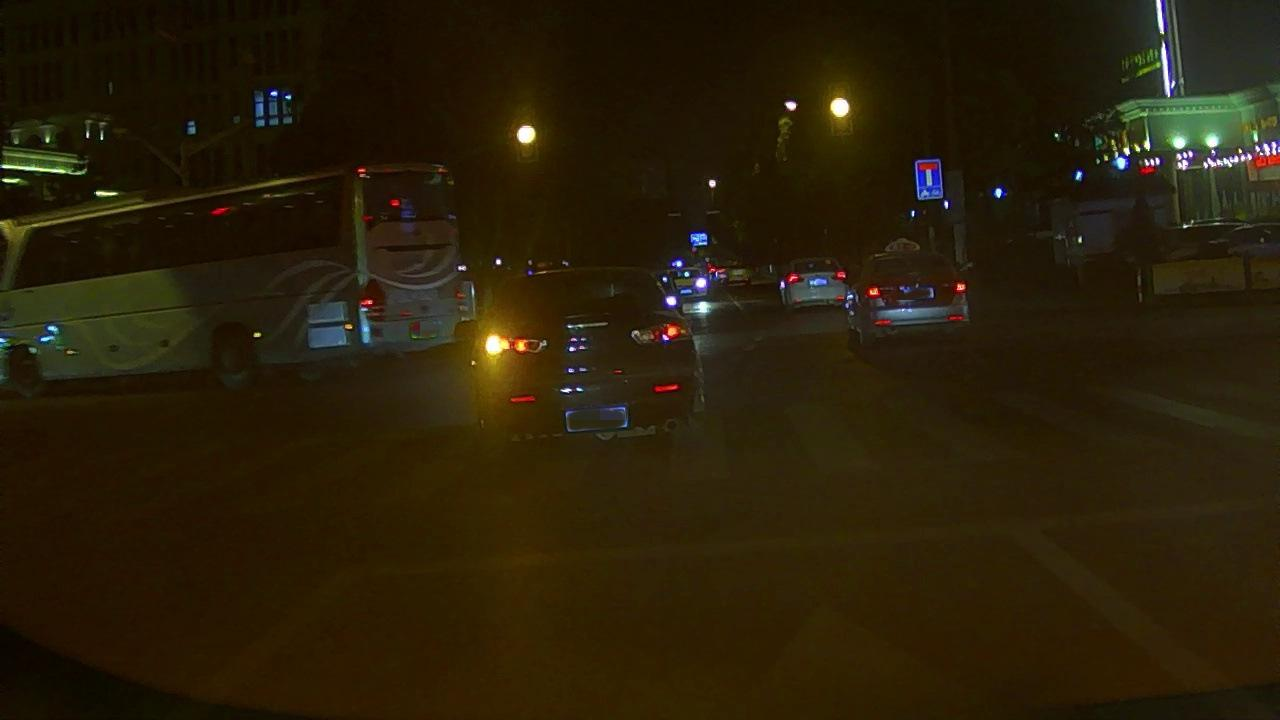traffic_light: (831, 86, 851, 136), (514, 116, 540, 149)
